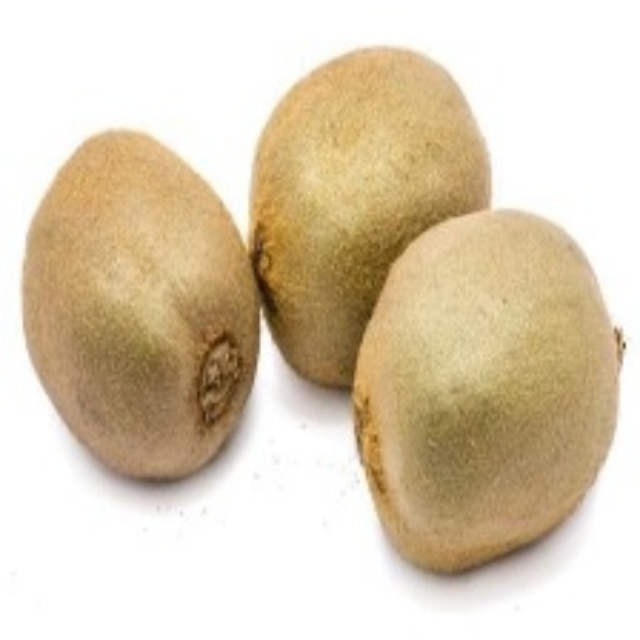kiwi: (344, 215, 636, 583), (18, 125, 275, 492), (240, 44, 499, 376)
